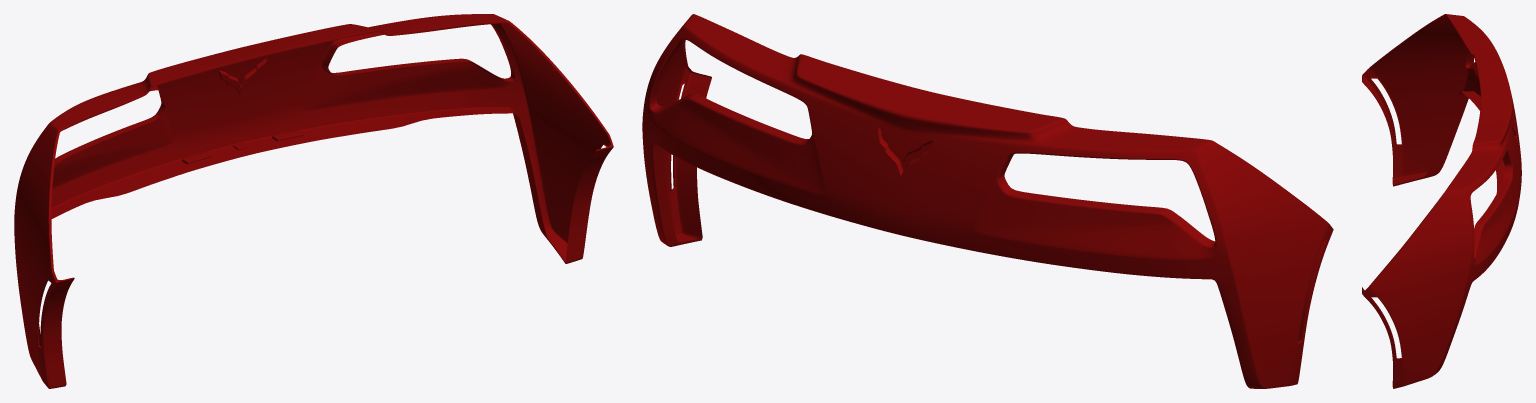
The model's file is c7backpanels.glb.
3 renders of one model, left to right at view 1: azimuth 30°, elevation 25°; view 2: azimuth 150°, elevation 25°; view 3: azimuth 270°, elevation 25°, orthographic. The views are drawn at different scales.
Visible parts, largest first — view 1: Rear_Bumper_Crysal_Red_0; view 2: Rear_Bumper_Crysal_Red_0; view 3: Rear_Bumper_Crysal_Red_0.
Part boxes in pixels (x1,y1,x2,y2): Rear_Bumper_Crysal_Red_0: (14,14,613,388); Rear_Bumper_Crysal_Red_0: (642,14,1333,388); Rear_Bumper_Crysal_Red_0: (1362,14,1521,388).
Bounding box in the file's own units: 1.86 × 0.7368 × 0.5715.
